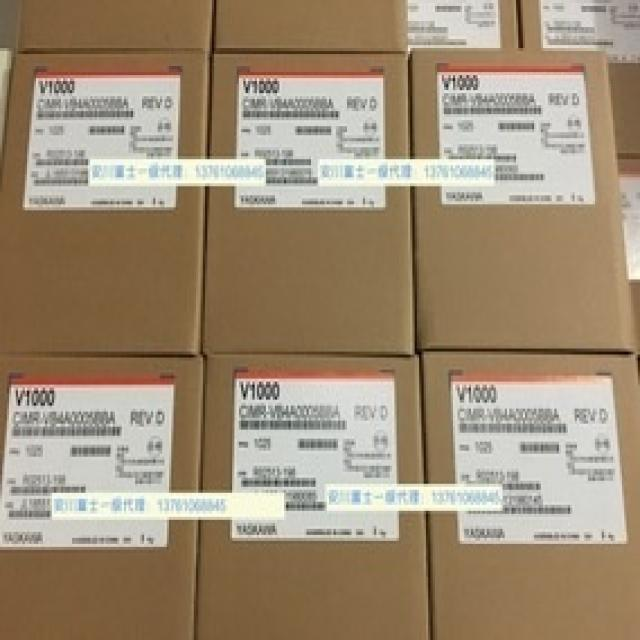box: (406, 48, 634, 353), (194, 355, 433, 637), (200, 53, 414, 355), (1, 52, 210, 356), (418, 351, 638, 637), (0, 355, 204, 637), (213, 1, 408, 53), (12, 1, 214, 50), (405, 1, 522, 53), (617, 156, 638, 352)
